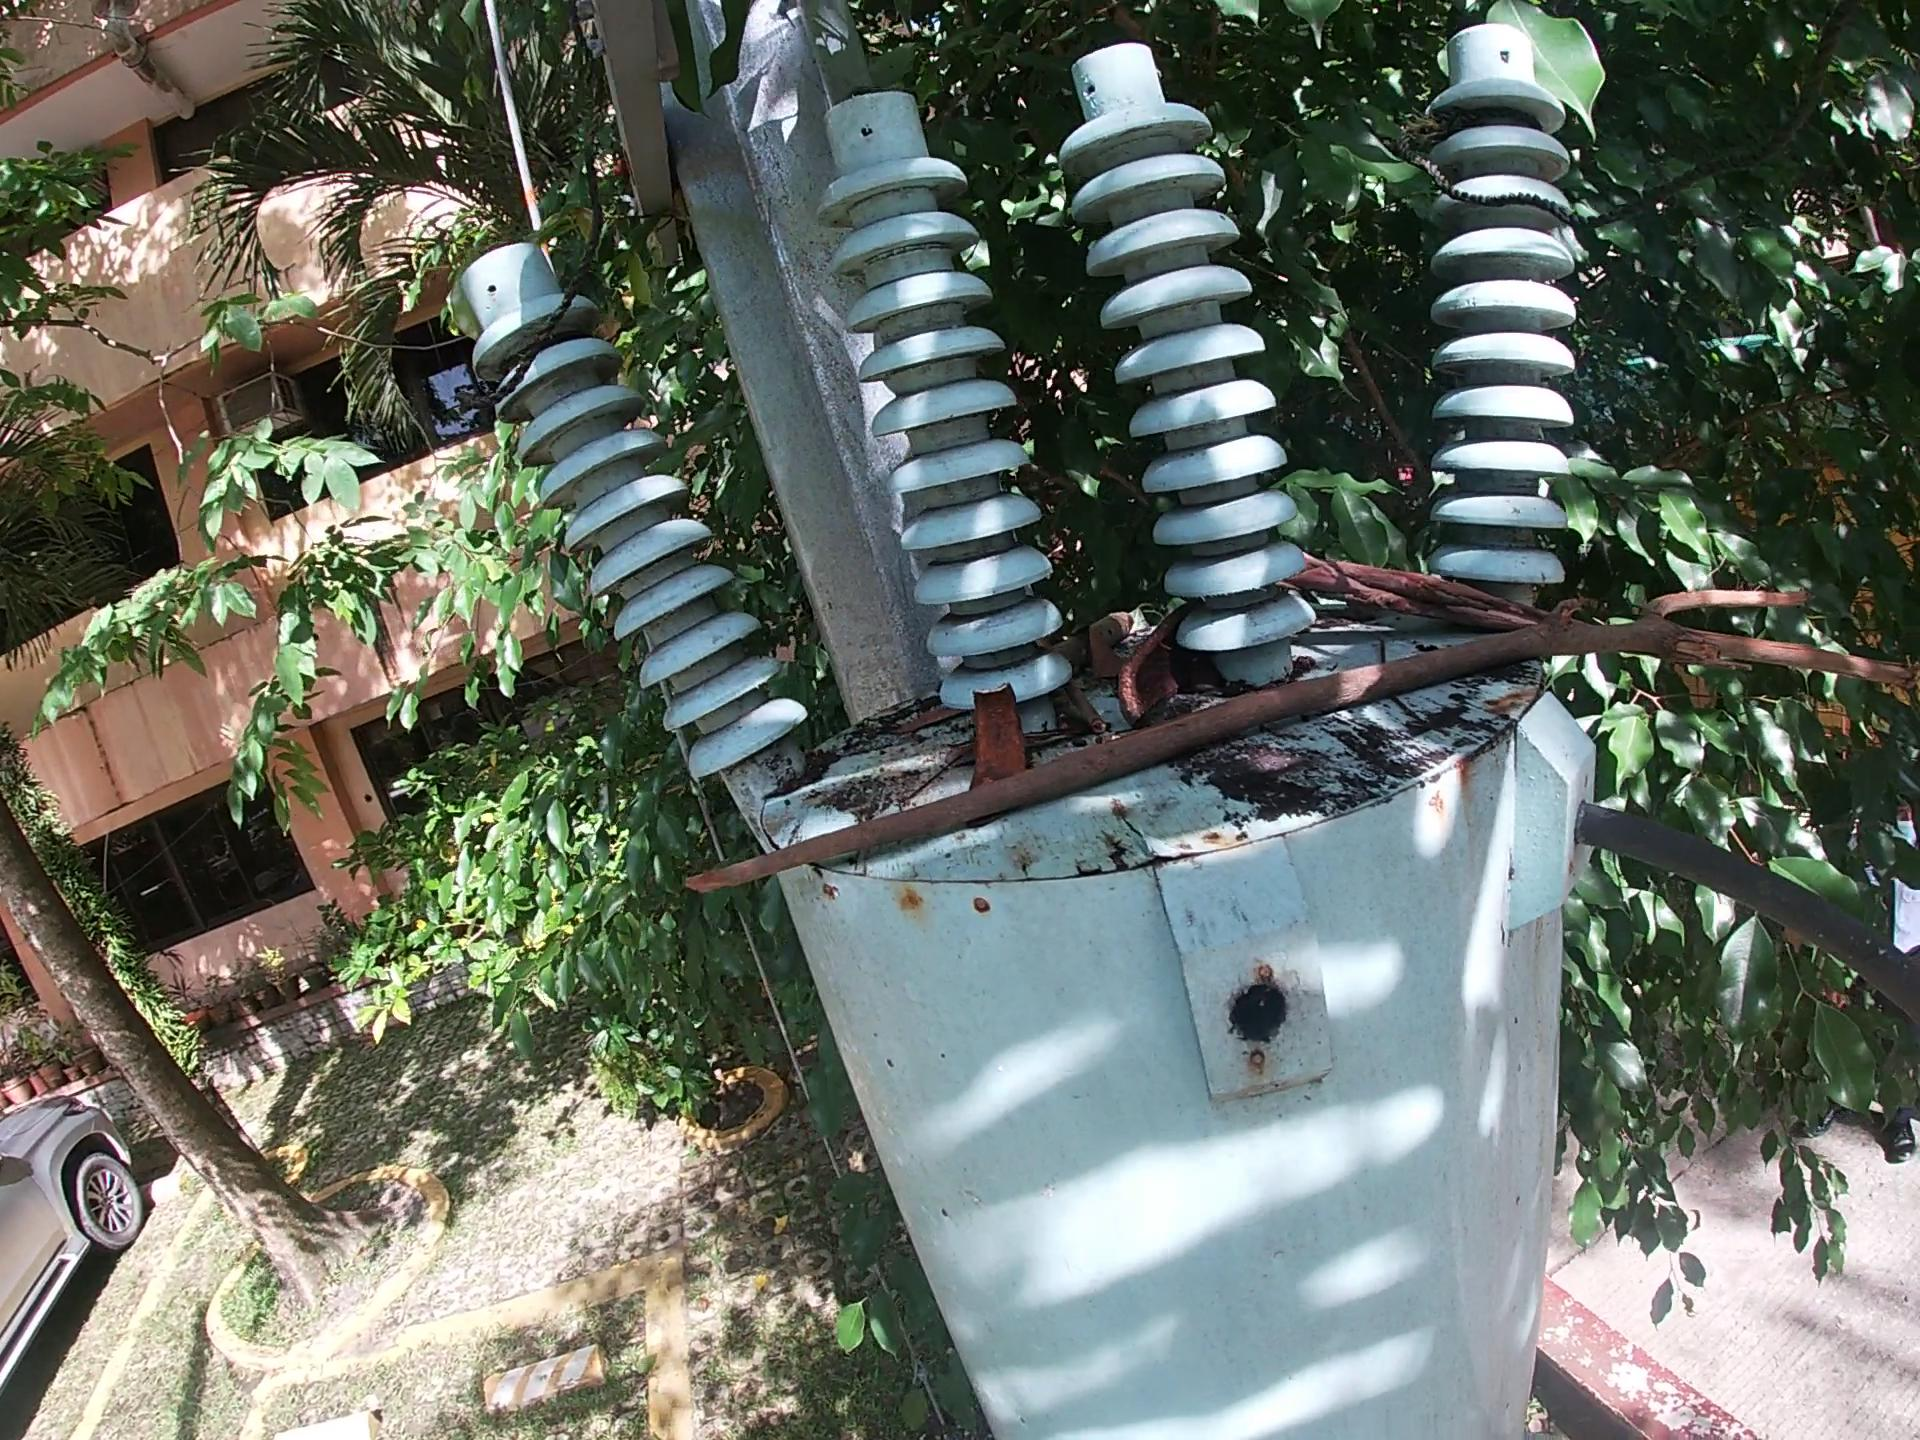leaf: (1085, 623, 1129, 685)
mahogany fruit: (1107, 605, 1197, 725), (963, 678, 1039, 793)
tree branch: (671, 582, 1920, 902), (1271, 545, 1760, 672), (1052, 610, 1132, 672)
